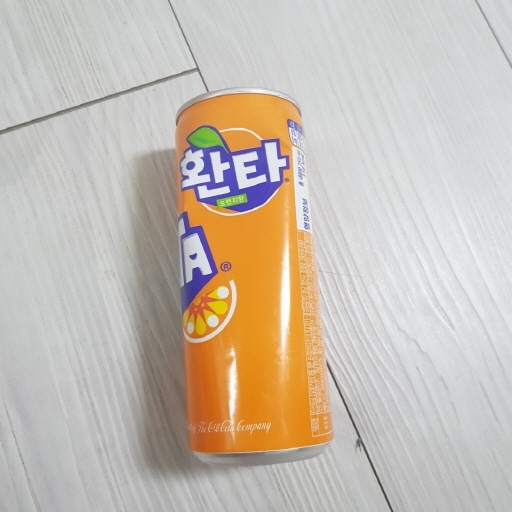Metal_0: (168, 85, 336, 466)
